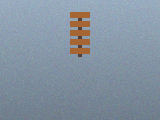insulator: (68, 10, 92, 58)
